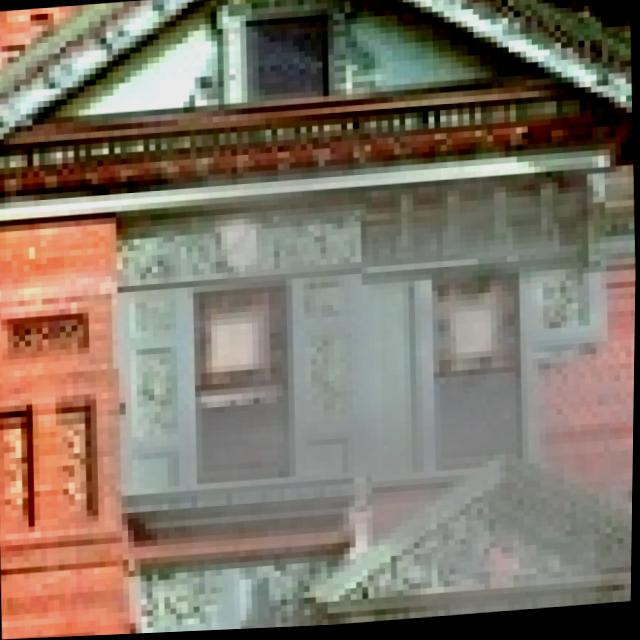smoke: (45, 112, 638, 638)
